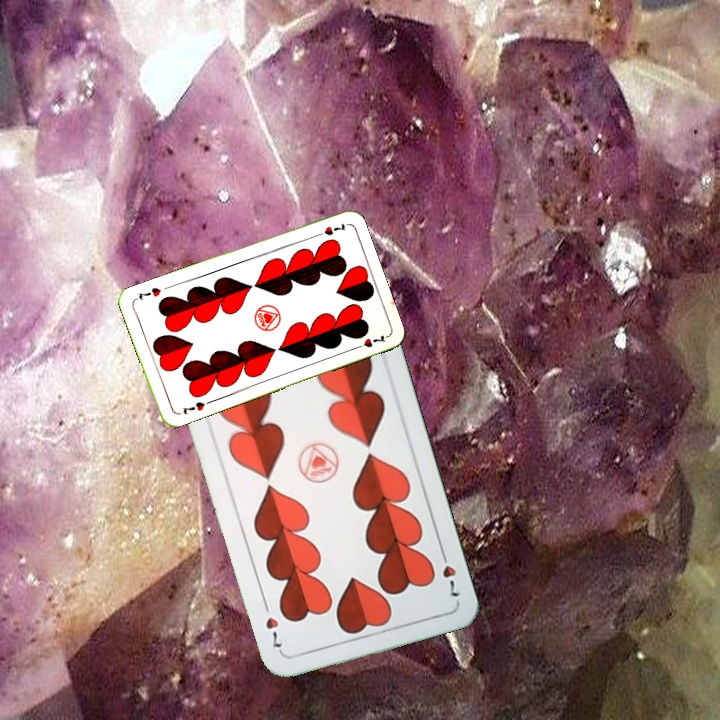H7: (436, 545, 463, 600), (310, 219, 349, 240), (178, 397, 208, 417)
